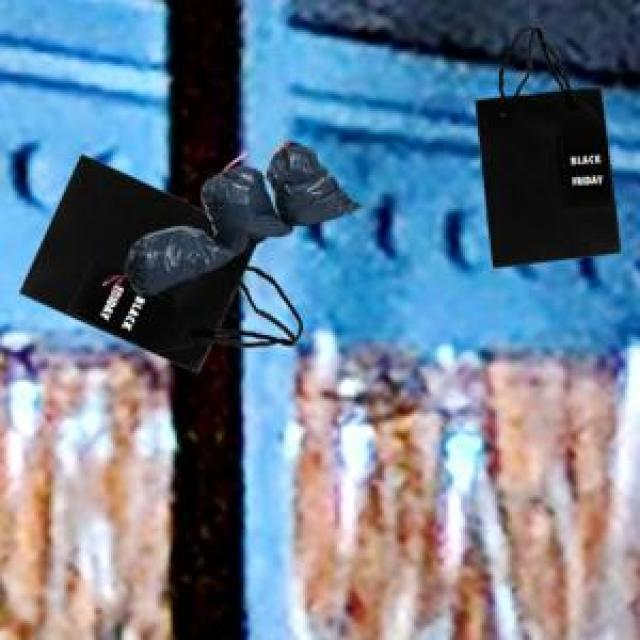miscellaneous trash: (120, 139, 358, 292)
paper: (17, 152, 299, 367), (472, 24, 617, 262)
